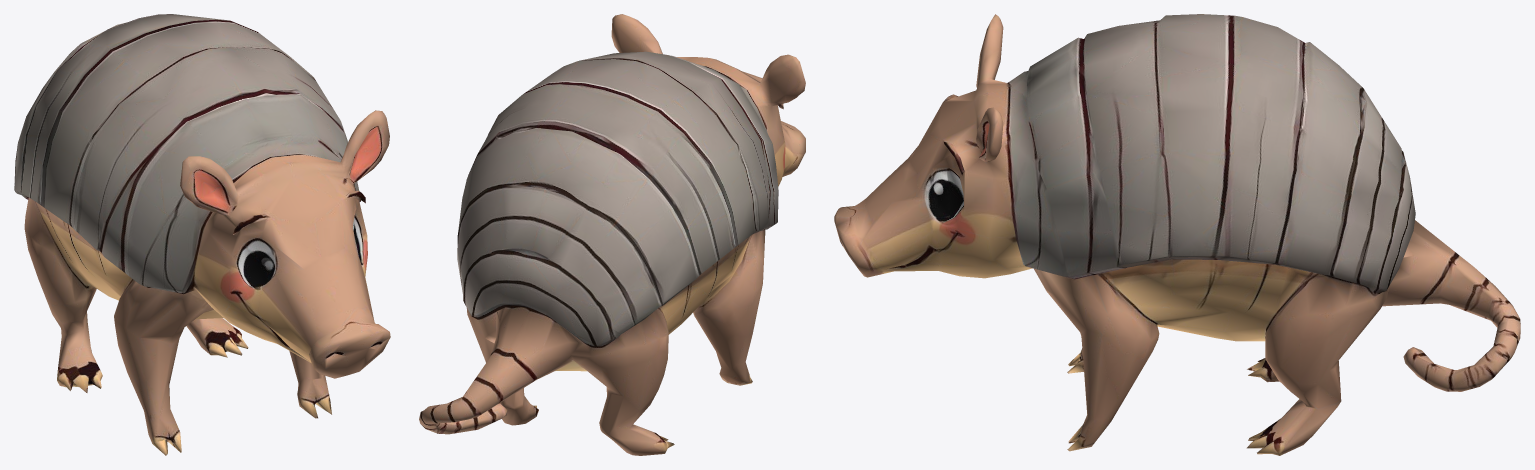
Rendered from armadillo.glb.
3 views of the same model, side by side, from view 1: azimuth 30°, elevation 25°; view 2: azimuth 150°, elevation 25°; view 3: azimuth 270°, elevation 25° (orthographic). The views are drawn at different scales.
Bounding box in the file's own units: 0.9263 × 1.17 × 1.91.
1 material, 1 textured.
